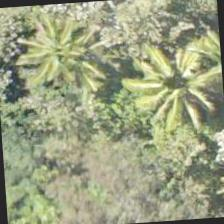Kelapa_Sawit: (123, 33, 219, 129), (15, 0, 110, 96)
